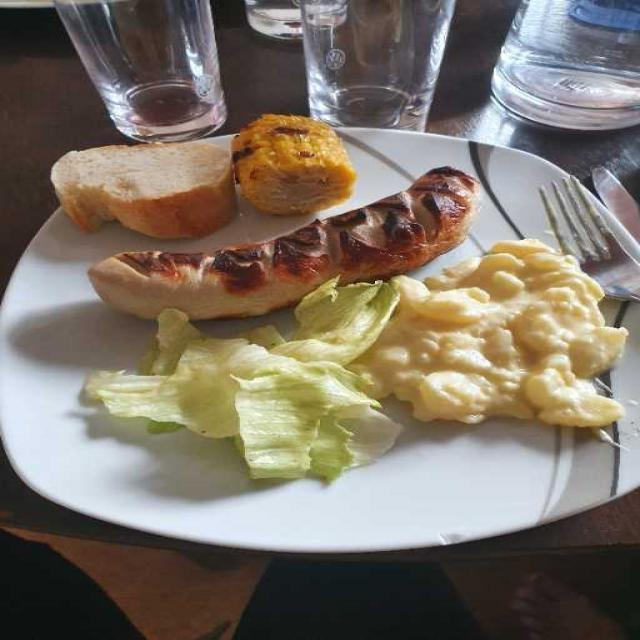bread: (38, 131, 241, 232)
corn: (230, 112, 360, 210)
potato-salad: (345, 235, 621, 429)
salad: (91, 274, 409, 482)
sausage: (76, 165, 482, 335)
